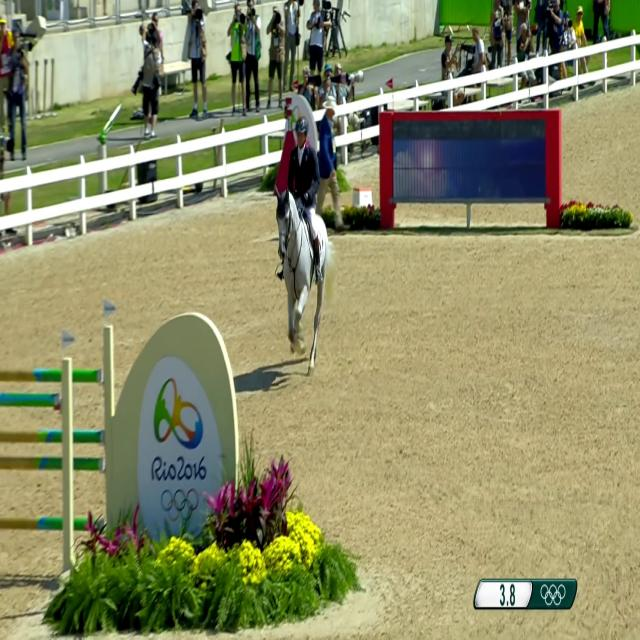Horse Running: (267, 172, 349, 384)
